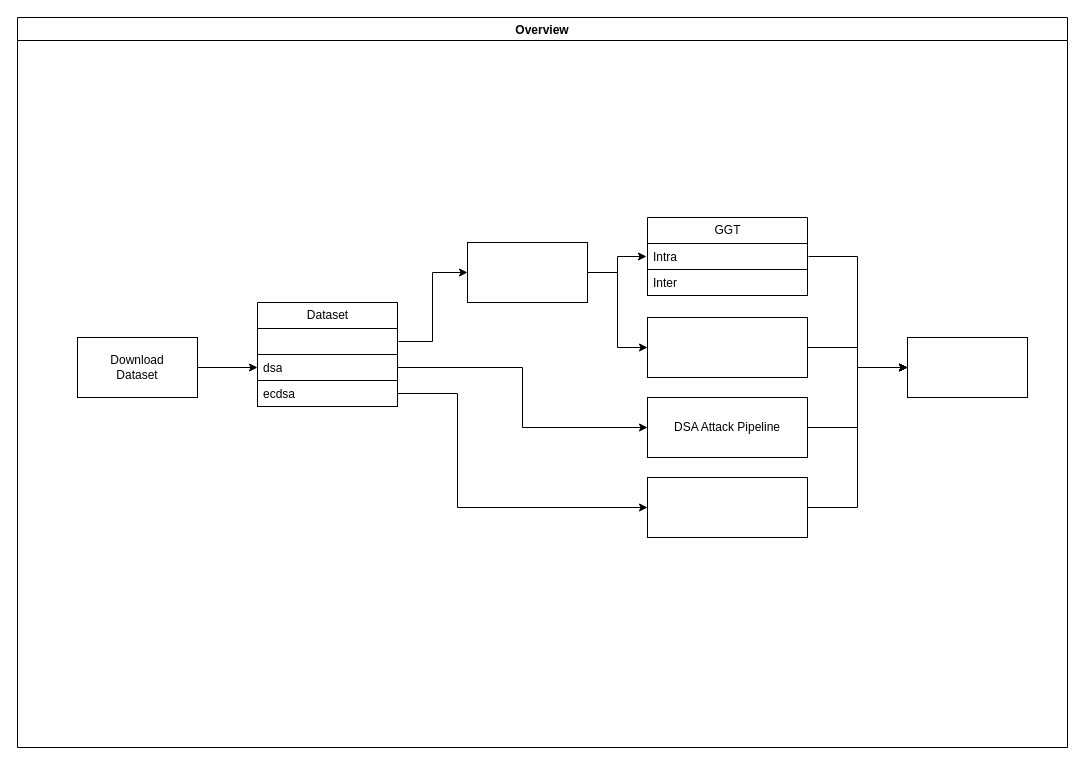
The diagram is 1085 pixels wide and 765 high, and some of its shapes have lost their labels. Here are the shapes that lost their labels. From the top down, the centre of each, then its label:
[527,272]: Deduplicate
[327,341]: rsa
[727,347]: RSA Attack Pipeline
[967,367]: Database
[727,507]: ECDSA Attack Pipeline
